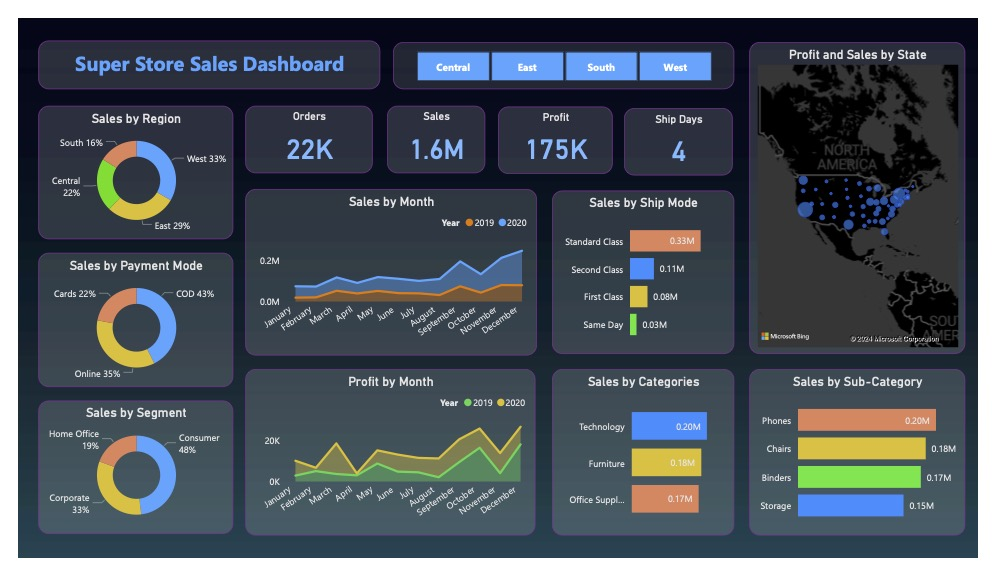

The dashboard page shown, as its layout file describes it:
{"tool":"powerbi","page":{"name":"Page 1","canvas":[1280,720],"ordinal":0},"visuals":[{"type":"clusteredBarChart","title":"Sales by Sub-Category","fields":{"Category":["Sheet1.Sub-Category"],"Y":["Sum(Sheet1.Sales)"]},"box":[975,468.3,288.3,221.7],"z":0},{"type":"clusteredBarChart","title":"Sales by Ship Mode","fields":{"Category":["Sheet1.Ship Mode"],"Y":["Sum(Sheet1.Sales)"]},"box":[711.7,230,243.3,218.3],"z":1000},{"type":"stackedAreaChart","title":"Sales by Month","fields":{"Y":["Sum(Sheet1.Sales)"],"Category":["Sheet1.Order Date.Variation.Date Hierarchy.Month","Sheet1.Order Date.Variation.Date Hierarchy.Day"],"Series":["Sheet1.Order Date.Variation.Date Hierarchy.Year"]},"box":[303.3,228.3,388.3,221.7],"z":2000},{"type":"stackedAreaChart","title":"Profit by Month","fields":{"Category":["Sheet1.Order Date.Variation.Date Hierarchy.Month","Sheet1.Order Date.Variation.Date Hierarchy.Day"],"Series":["Sheet1.Order Date.Variation.Date Hierarchy.Year"],"Y":["Sum(Sheet1.Profit)"]},"box":[303.3,468.3,386.7,221.7],"z":3000},{"type":"map","title":"Profit and Sales by State","fields":{"Size":["Sum(Sheet1.Sales)"],"Category":["Sheet1.State"]},"box":[975,31.7,288.3,416.7],"z":4000},{"type":"donutChart","title":"Sales by Segment","fields":{"Category":["Sheet1.Segment"],"Y":["Sum(Sheet1.Sales)"]},"box":[26.7,510,260,178.3],"z":5000},{"type":"donutChart","title":"Sales by Payment Mode","fields":{"Category":["Sheet1.Payment Mode"],"Y":["Sum(Sheet1.Sales)"]},"box":[26.7,313.3,260,178.3],"z":6000},{"type":"slicer","fields":{"Values":["Sheet1.Region"]},"box":[500,31.7,455,63.3],"z":7000},{"type":"textbox","box":[26.7,30,456.7,65],"z":8000},{"type":"card","title":"Sales","fields":{"Values":["Sum(Sheet1.Sales)"]},"box":[491.7,116.7,131.7,90],"z":9000},{"type":"card","title":"Orders","fields":{"Values":["Sum(Sheet1.Quantity)"]},"box":[303.3,116.7,170,90],"z":10000},{"type":"card","title":"Profit","fields":{"Values":["Sum(Sheet1.Profit)"]},"box":[640,118.3,153.3,90],"z":11000},{"type":"card","title":"Ship Days","fields":{"Values":["Avg(Sheet1.AvgDelivery)"]},"box":[808.3,120,145,90],"z":12000},{"type":"donutChart","title":"Sales by Region","fields":{"Y":["Sum(Sheet1.Sales)"],"Category":["Sheet1.Region"]},"box":[26.7,116.7,260,178.3],"z":13000},{"type":"clusteredBarChart","title":"Sales by Categories","fields":{"Y":["Sum(Sheet1.Sales)"],"Category":["Sheet1.Category"]},"box":[711.7,468.3,243.3,221.7],"z":14000}]}

Visuals, with their boxes in screenshot pixels (x1, y1, x2, y2), scaled from the page's 1280x720 canvas onto the 996x576 screenshot:
"Sales by Sub-Category" clusteredBarChart: <box>759,375,983,552</box>
"Sales by Ship Mode" clusteredBarChart: <box>554,184,743,359</box>
"Sales by Month" stackedAreaChart: <box>236,183,538,360</box>
"Profit by Month" stackedAreaChart: <box>236,375,537,552</box>
"Profit and Sales by State" map: <box>759,25,983,359</box>
"Sales by Segment" donutChart: <box>21,408,223,551</box>
"Sales by Payment Mode" donutChart: <box>21,251,223,393</box>
slicer - Sheet1.Region: <box>389,25,743,76</box>
textbox: <box>21,24,376,76</box>
"Sales" card: <box>383,93,485,165</box>
"Orders" card: <box>236,93,368,165</box>
"Profit" card: <box>498,95,617,167</box>
"Ship Days" card: <box>629,96,742,168</box>
"Sales by Region" donutChart: <box>21,93,223,236</box>
"Sales by Categories" clusteredBarChart: <box>554,375,743,552</box>
